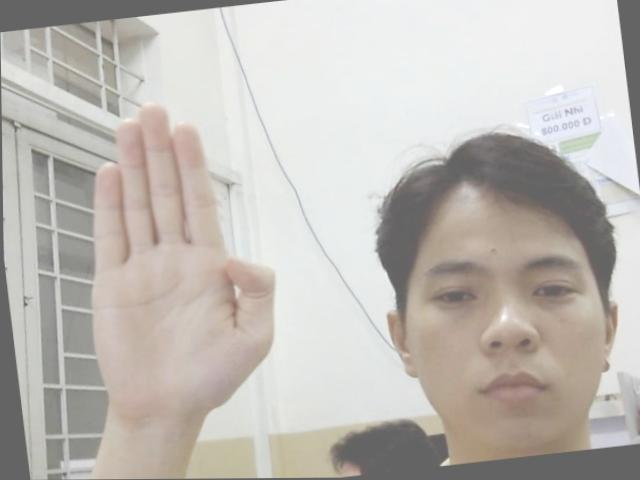B: (45, 81, 314, 444)
